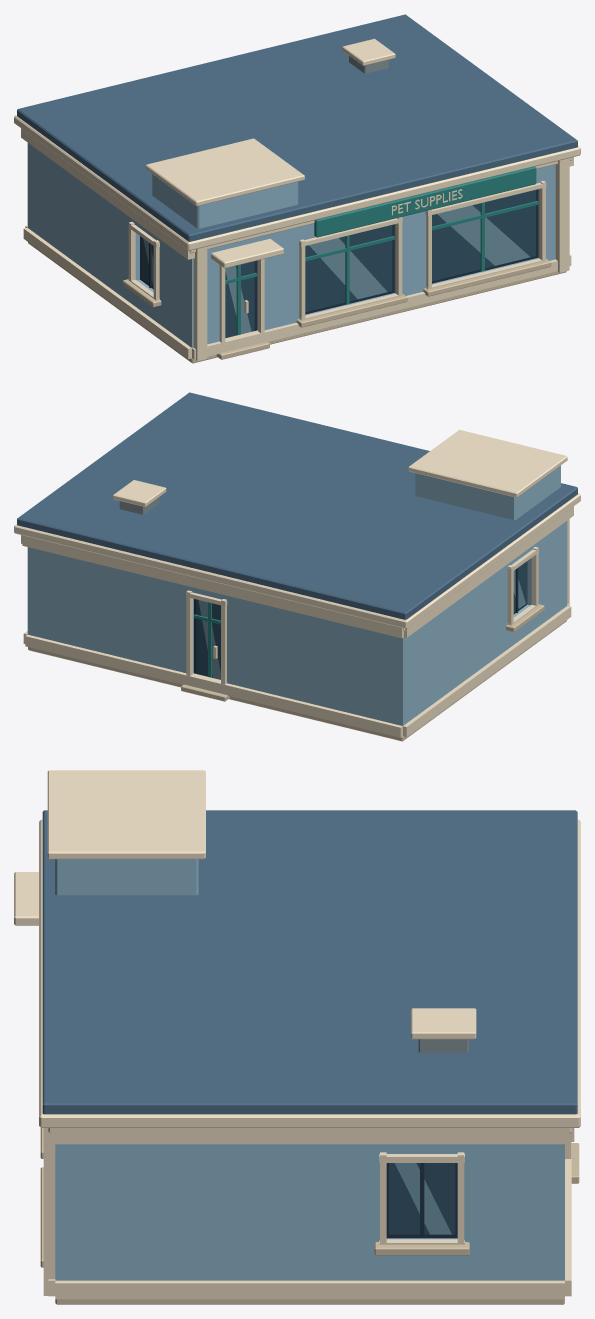
The model's file is pet_supply_shop.glb.
The picture shows the model from 3 angles, top to bottom: view 1: azimuth 30°, elevation 25°; view 2: azimuth 150°, elevation 25°; view 3: azimuth 270°, elevation 25°; orthographic projection. The views are drawn at different scales.
Visible parts, largest first — view 1: PetSupplyShop_StaticMesh; view 2: PetSupplyShop_StaticMesh; view 3: PetSupplyShop_StaticMesh.
Part boxes in pixels (left/top/right/bottom): PetSupplyShop_StaticMesh: left=14, top=14, right=580, bottom=363; PetSupplyShop_StaticMesh: left=14, top=392, right=580, bottom=741; PetSupplyShop_StaticMesh: left=14, top=770, right=580, bottom=1304.
Bounding box in the file's own units: 11.32 × 4.5 × 9.12.
